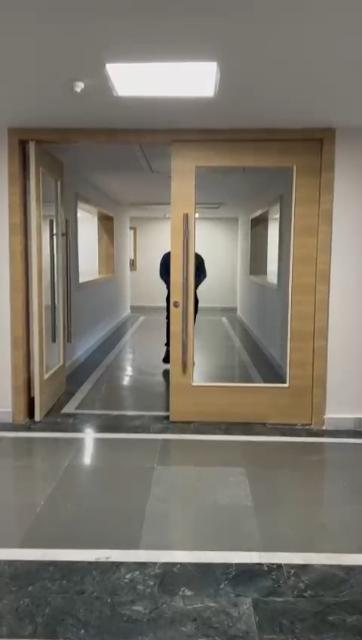door: (169, 148, 325, 424)
floor: (0, 428, 362, 640)
moving-obj: (153, 250, 221, 376)
wall: (332, 117, 362, 421)
